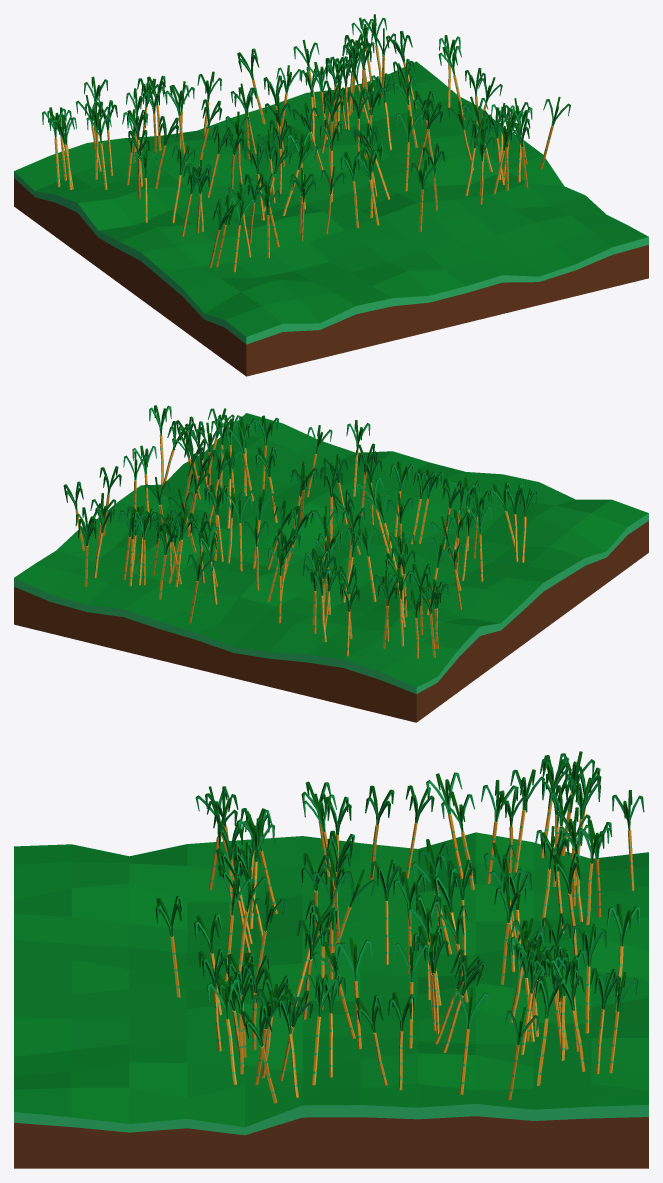
Rendered from TerranoCOMCanaDeAcucar.fbx.
3 views of the same model, one above another, from view 1: azimuth 30°, elevation 25°; view 2: azimuth 150°, elevation 25°; view 3: azimuth 270°, elevation 25° (orthographic). The views are drawn at different scales.
Visible parts, largest first — view 1: TerrenoComCanasAcucar; view 2: TerrenoComCanasAcucar; view 3: TerrenoComCanasAcucar.
Boxes of the visible parts, x1,y1,x2,y2 form: TerrenoComCanasAcucar: (14,14,648,376); TerrenoComCanasAcucar: (14,405,648,722); TerrenoComCanasAcucar: (14,751,648,1168).
Size of the model in its own units: 1018 by 282 by 1000.
Materials: 2 (2 with a texture image).
